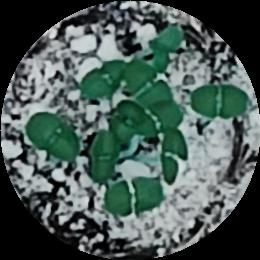Basil: (28, 106, 79, 170), (127, 57, 172, 110), (135, 95, 185, 138), (83, 128, 118, 189), (107, 177, 166, 213), (191, 83, 248, 119), (80, 60, 121, 99), (153, 137, 185, 185)
